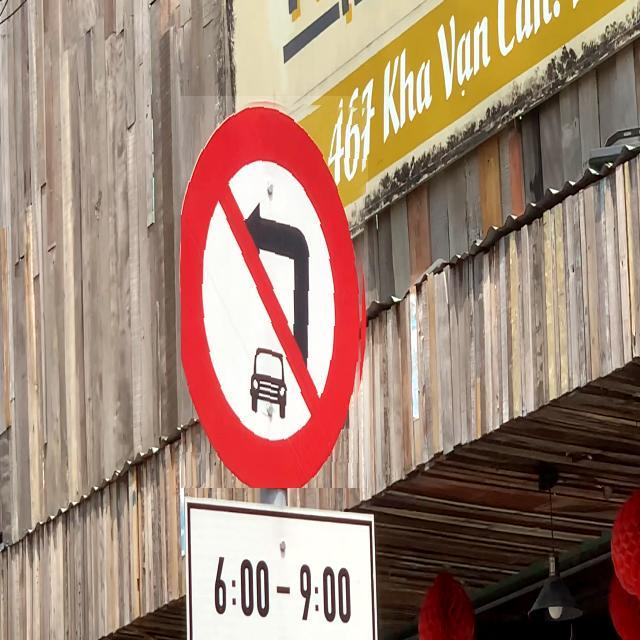P-103c: (181, 96, 368, 488)
